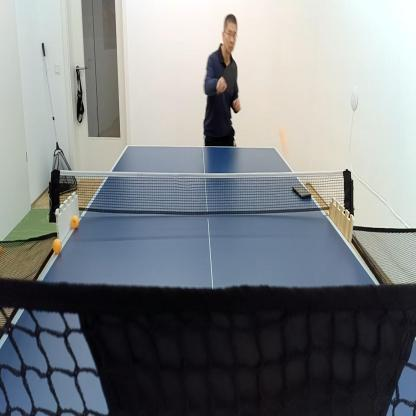Ball: (278, 125, 290, 159), (52, 236, 63, 257), (70, 213, 80, 231), (0, 243, 4, 257)
